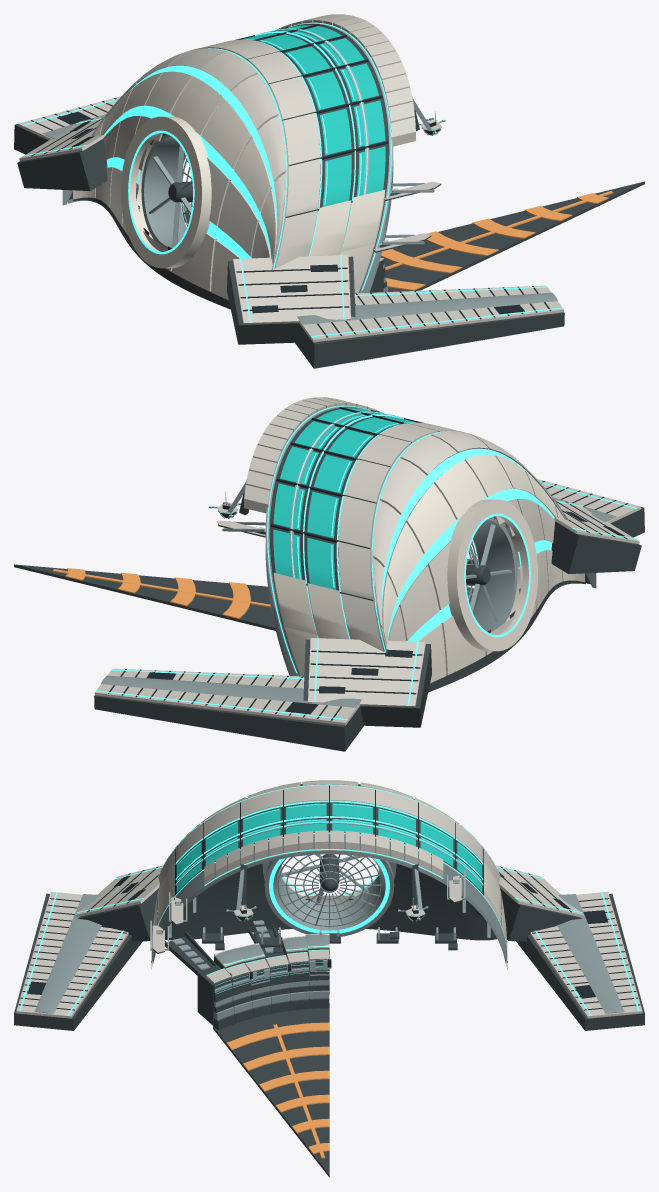
The model's file is Weather_Lung_Sector_06.glb.
The picture shows the model from 3 angles, top to bottom: view 1: azimuth 30°, elevation 25°; view 2: azimuth 150°, elevation 25°; view 3: azimuth 270°, elevation 25°; orthographic projection. The views are drawn at different scales.
Visible parts, largest first — view 1: Weather_Lung_Sector_06; view 2: Weather_Lung_Sector_06; view 3: Weather_Lung_Sector_06.
Part boxes in pixels (x1,y1,x2,y2): Weather_Lung_Sector_06: [14, 14, 644, 368]; Weather_Lung_Sector_06: [14, 397, 644, 751]; Weather_Lung_Sector_06: [14, 780, 644, 1177].
Bounding box in the file's own units: 13763 × 5705 × 15429.
